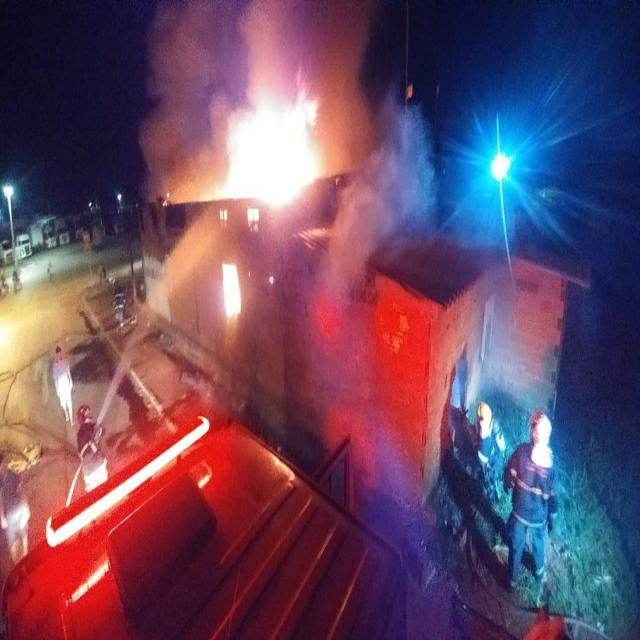Fire: (192, 92, 324, 202)
